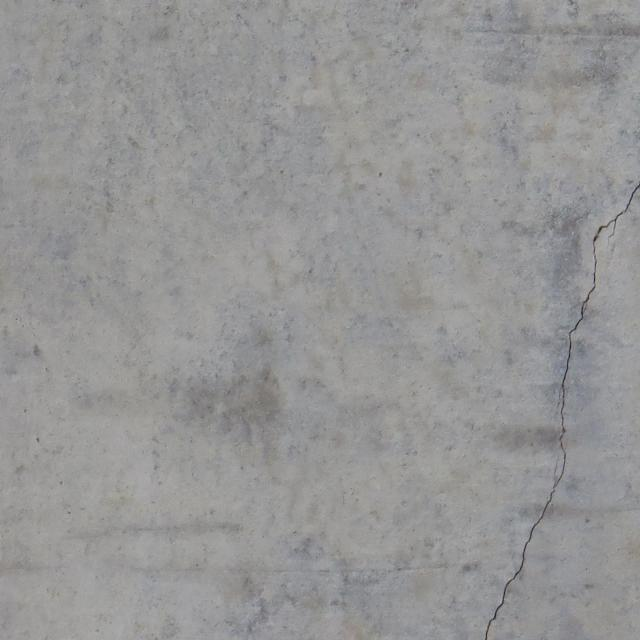diagonal crack: (483, 187, 639, 639)
